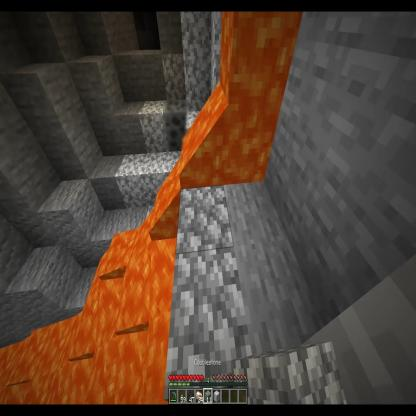coal ore: (163, 100, 189, 150)
